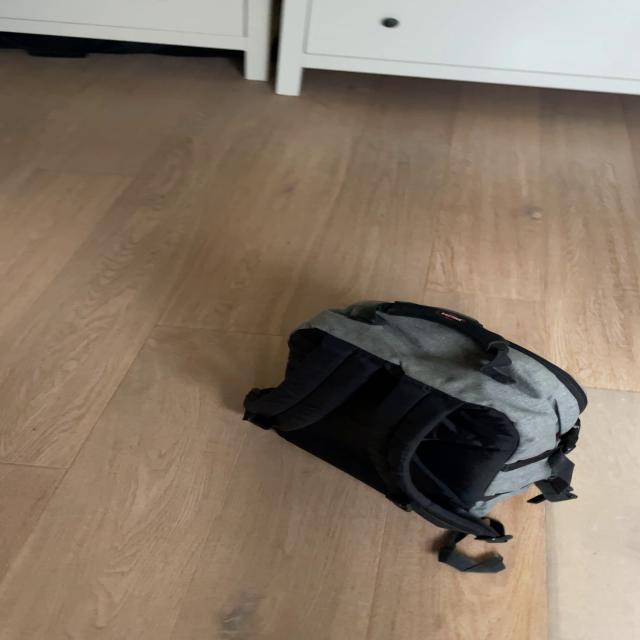backpack: (228, 284, 602, 536)
